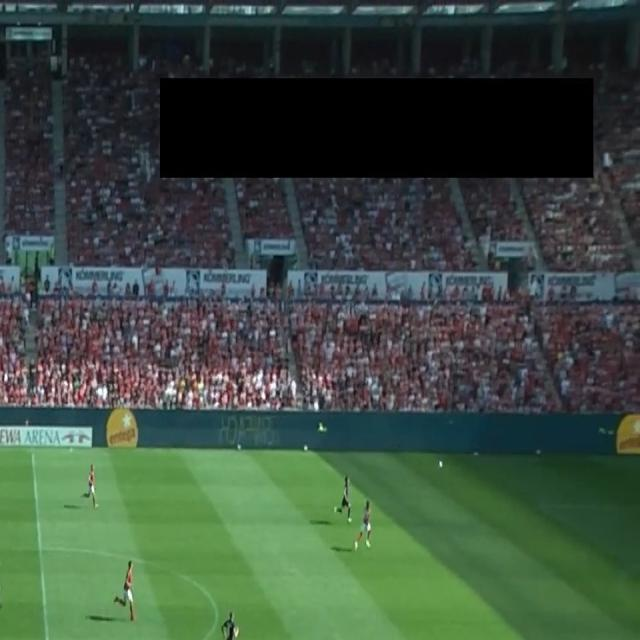ball: (438, 459, 443, 469)
